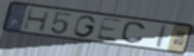5: (49, 10, 74, 35)
C: (119, 21, 148, 45)
E: (94, 16, 124, 43)
G: (73, 14, 99, 38)
H: (21, 7, 52, 33)
I: (155, 23, 168, 49)
